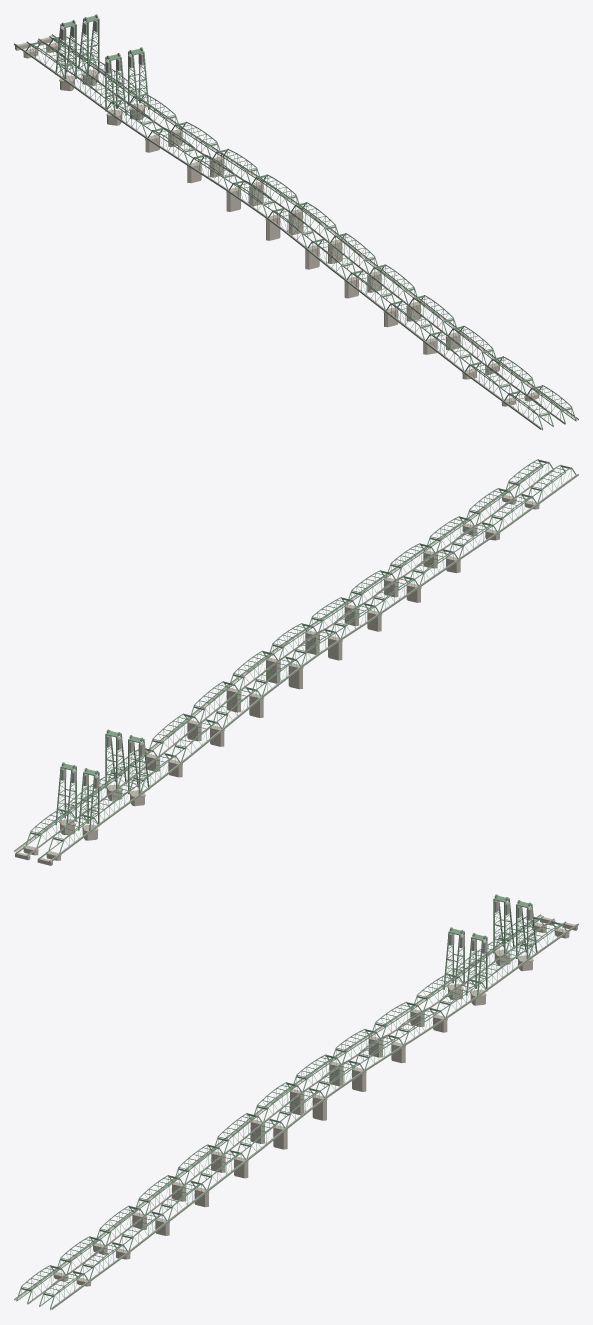
File: pdx-interstate-bridge.detail.glb
3 views of the same model, one above another, from view 1: azimuth 30°, elevation 25°; view 2: azimuth 150°, elevation 25°; view 3: azimuth 330°, elevation 25° (orthographic).
Parts seen in each view (by area): view 1: Interstate Bridge; view 2: Interstate Bridge; view 3: Interstate Bridge.
Boxes of the visible parts, x1,y1,x2,y2 form: Interstate Bridge: (14, 14, 578, 430); Interstate Bridge: (14, 459, 578, 865); Interstate Bridge: (14, 894, 578, 1310).
Size of the model in its own units: 44.7 by 75.65 by 1073.
